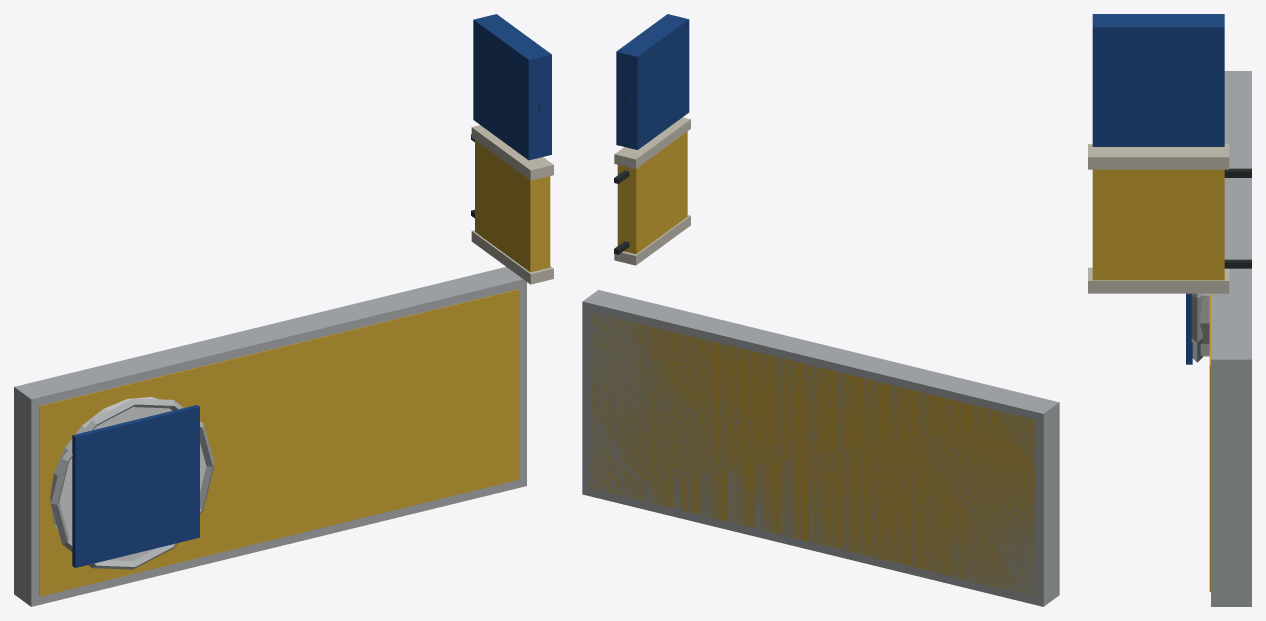
The model's file is bang_gui_xe_32.glb.
The picture shows the model from 3 angles, left to right: view 1: azimuth 30°, elevation 25°; view 2: azimuth 150°, elevation 25°; view 3: azimuth 270°, elevation 25°; orthographic projection. The views are drawn at different scales.
Parts seen in each view (by area): view 1: bang_gui_xe_32; view 2: bang_gui_xe_32; view 3: bang_gui_xe_32.
Part boxes in pixels (x1=…): bang_gui_xe_32: x1=14, y1=14, x2=553, y2=606; bang_gui_xe_32: x1=582, y1=14, x2=1059, y2=606; bang_gui_xe_32: x1=1088, y1=14, x2=1251, y2=606.
Bounding box in the file's own units: 3 × 2.74 × 0.72.
